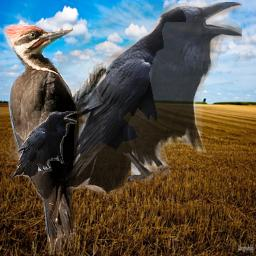Crow: (47, 2, 242, 203), (9, 111, 77, 181)
Woodpecker: (3, 24, 106, 255)
